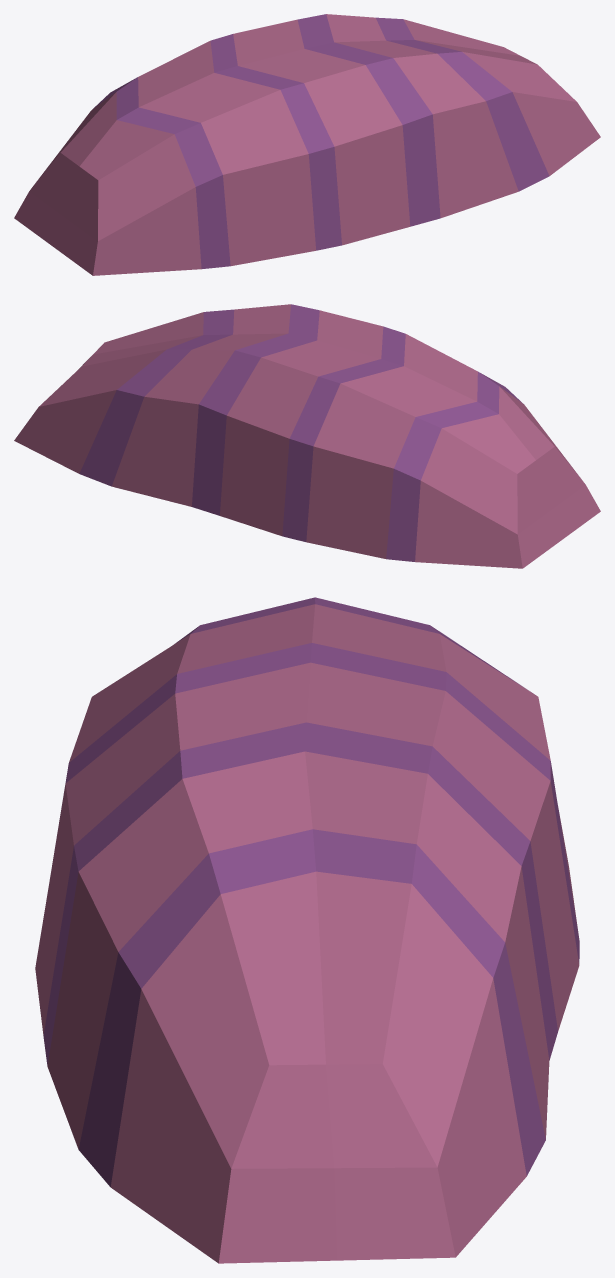
The model's file is Sashimi_Salmon2.glb.
3 renders of one model, top to bottom at view 1: azimuth 30°, elevation 25°; view 2: azimuth 150°, elevation 25°; view 3: azimuth 270°, elevation 25°, orthographic. The views are drawn at different scales.
Visible parts, largest first — view 1: Sashimi_Salmon2; view 2: Sashimi_Salmon2; view 3: Sashimi_Salmon2.
Boxes of the visible parts, x1,y1,x2,y2 form: Sashimi_Salmon2: (14,14,600,275); Sashimi_Salmon2: (14,304,600,568); Sashimi_Salmon2: (35,597,579,1263).
Size of the model in its own units: 0.0896 by 0.0228 by 0.0407.
